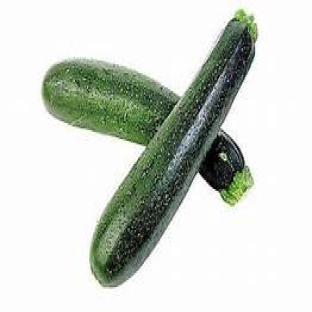Zucchini: (91, 18, 254, 285), (43, 59, 179, 146)
